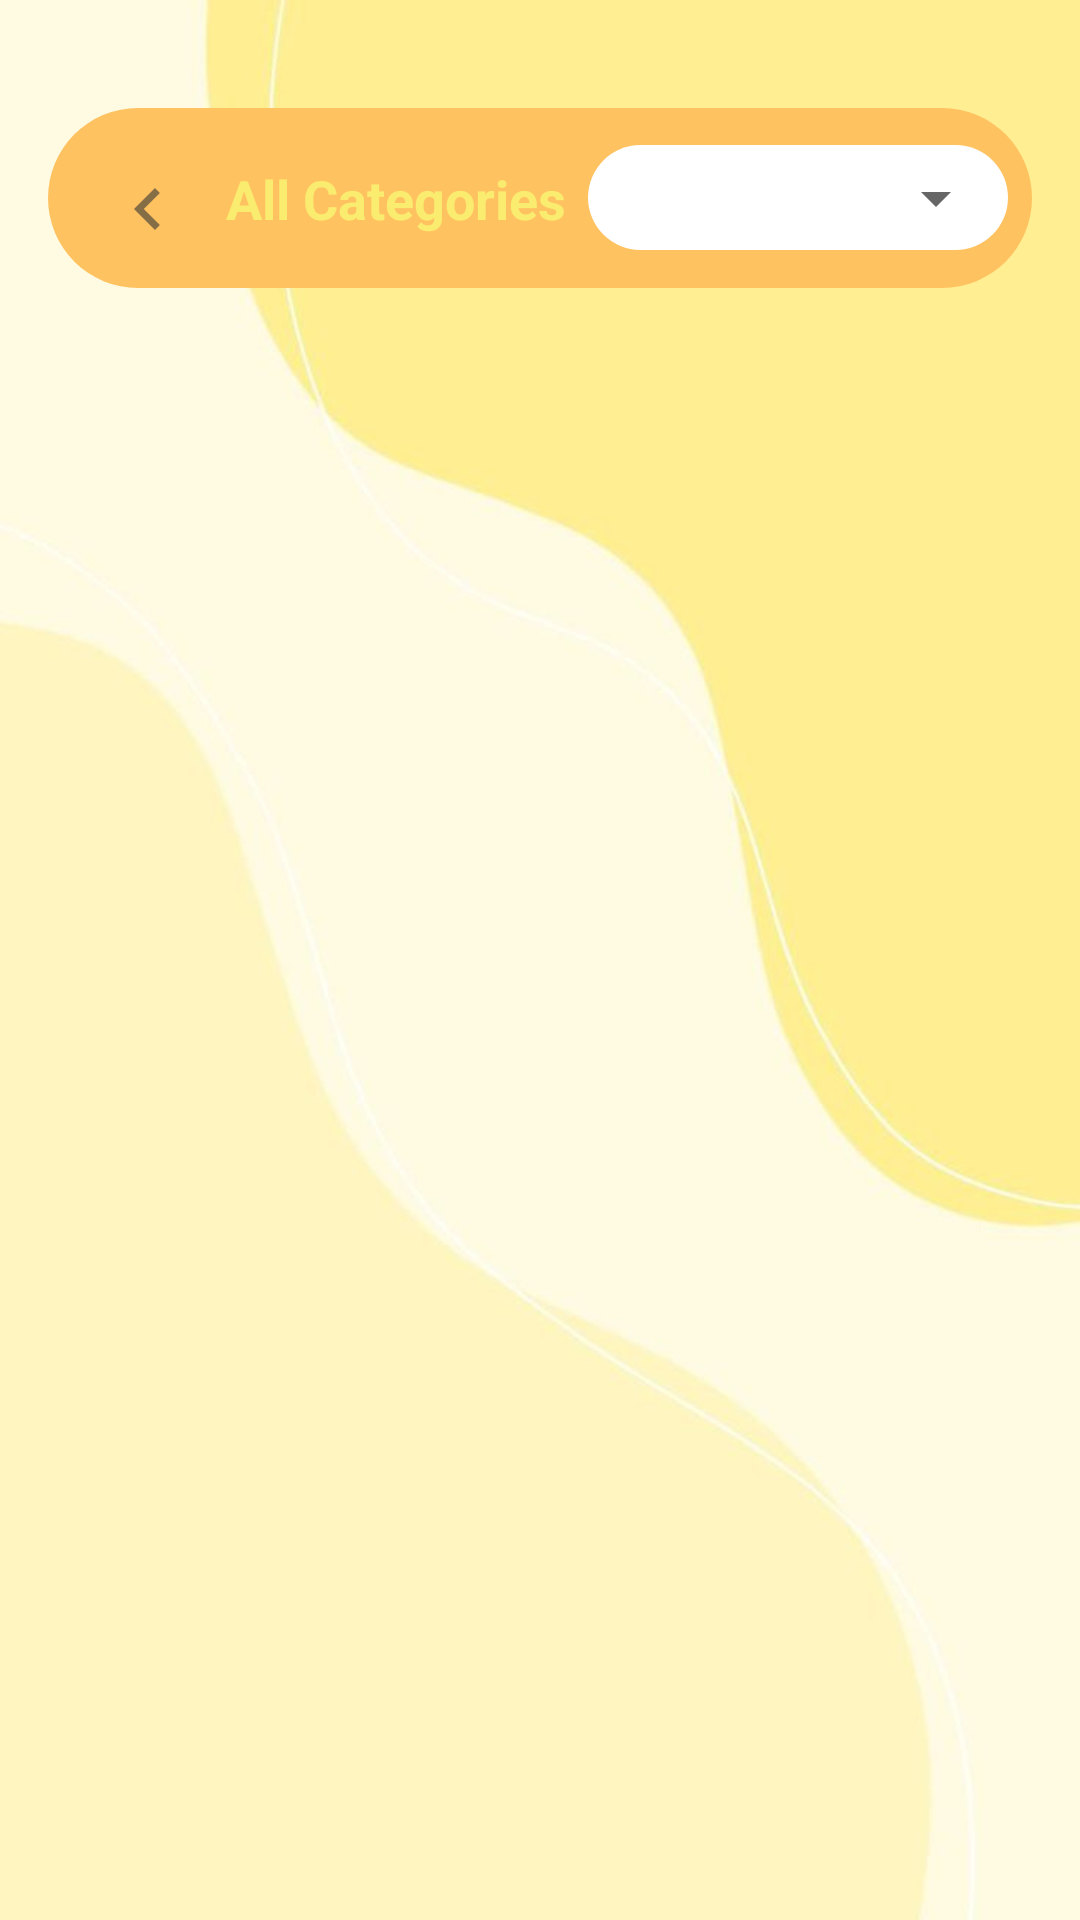

Where to tap for icons on this 1080px×1920px app screen, as [x,y]:
backarrow name: [115,208]
